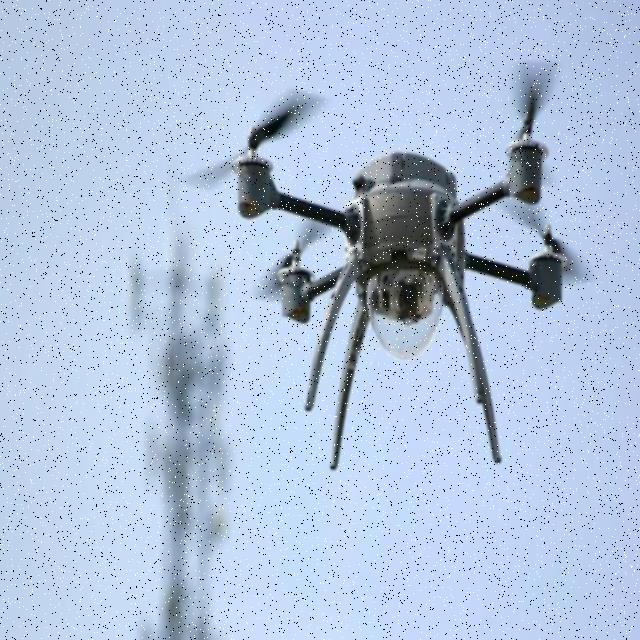UAV: (233, 62, 574, 475)
